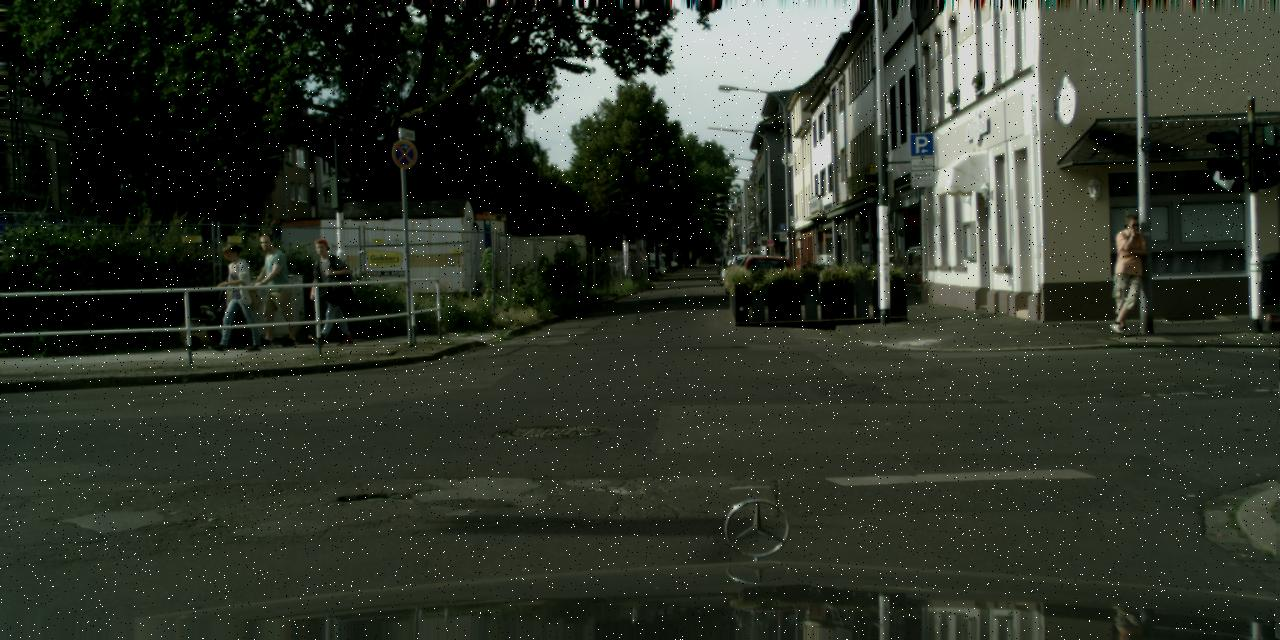ped: (1102, 214, 1150, 333), (249, 233, 295, 345), (212, 242, 256, 352), (304, 238, 347, 344)
